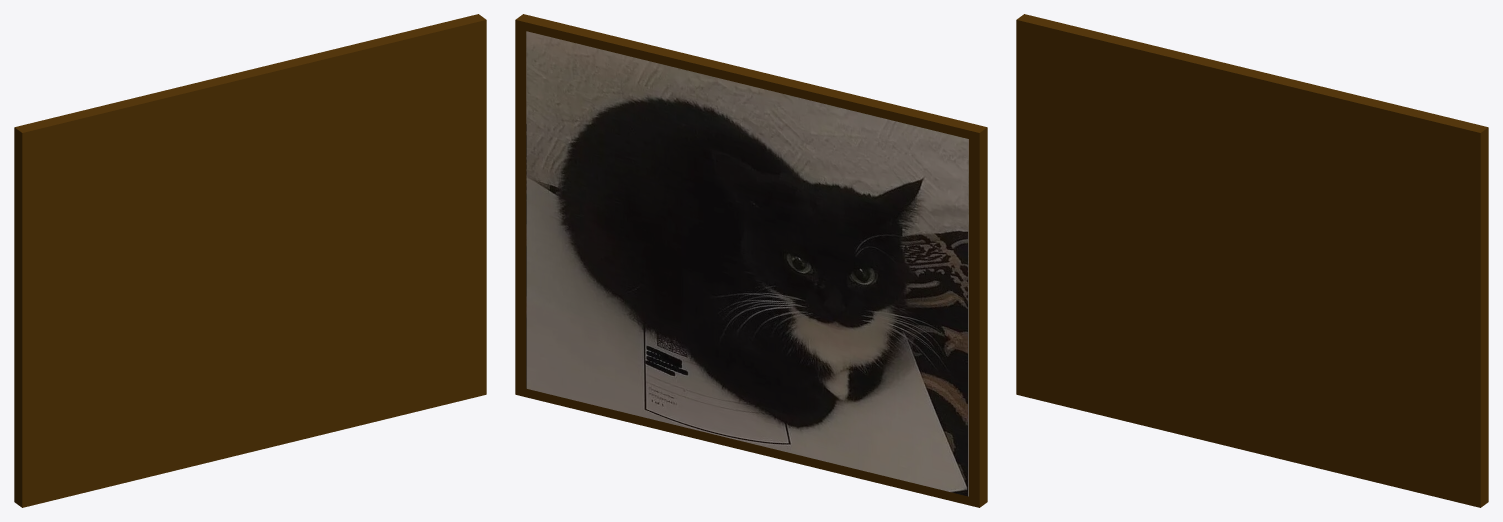
The model's file is prop_taulu_maxwell.fbx.
3 views of the same model, side by side, from view 1: azimuth 30°, elevation 25°; view 2: azimuth 150°, elevation 25°; view 3: azimuth 330°, elevation 25° (orthographic).
Parts seen in each view (by area): view 1: Cube; view 2: Cube; view 3: Cube.
Part boxes in pixels (x1,y1,x2,y2): Cube: [14, 14, 486, 507]; Cube: [515, 14, 987, 507]; Cube: [1016, 14, 1488, 507].
Size of the model in its own units: 513 by 396 by 15.17.
2 materials, 1 textured.
